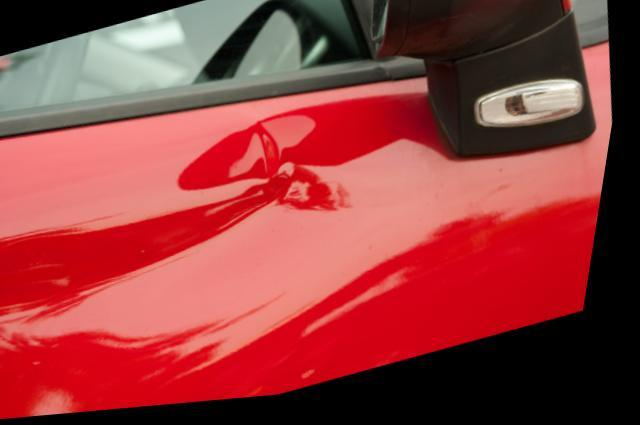dent: (0, 100, 439, 344)
